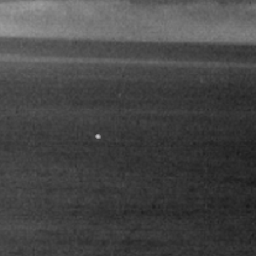Target: (94, 133, 102, 140)
